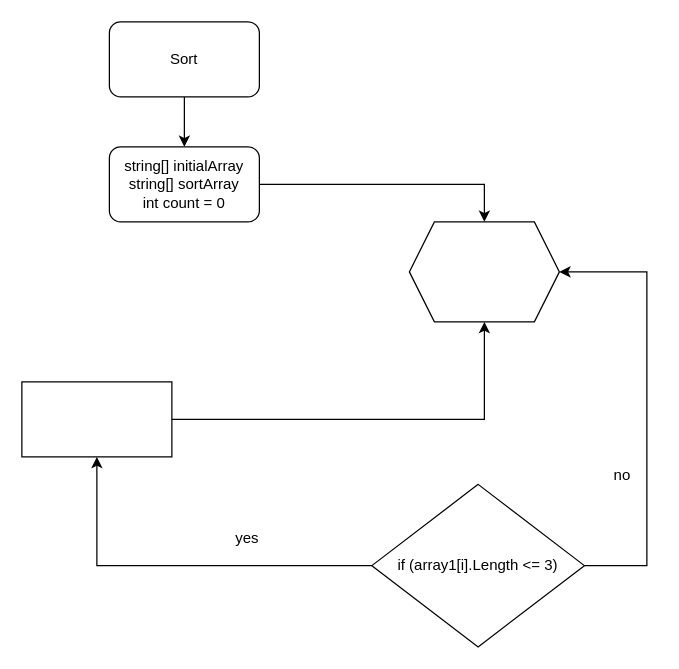
The diagram is 679 pixels wide and 669 high, and some of its shapes have lost their labels. The shapes that lost their labels are listed below. From the top down, each one's centre as x and y in pixels, then its label:
point (483, 271): for (int i = 0; i < InitialArray.Length; i++)
point (96, 419): array2[count] = array1[i] count++
